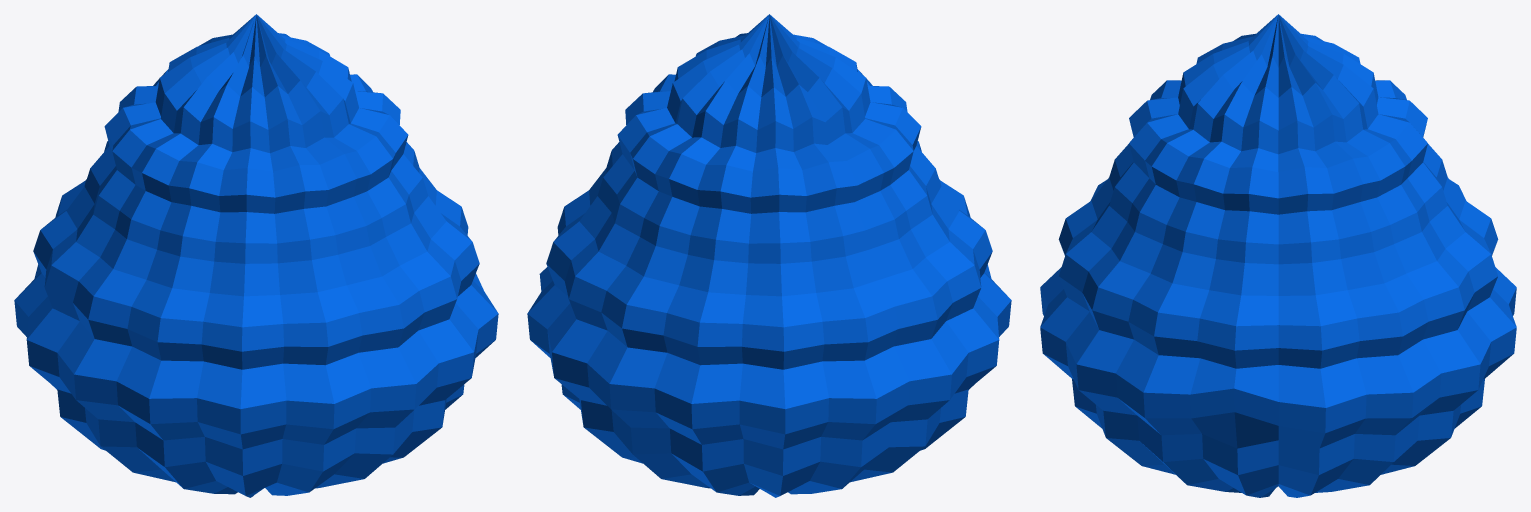
Rendered from egg 1.fbx.
3 views of the same model, side by side, from view 1: azimuth 30°, elevation 25°; view 2: azimuth 150°, elevation 25°; view 3: azimuth 270°, elevation 25° (orthographic).
Visible parts, largest first — view 1: egg; view 2: egg; view 3: egg.
Part boxes in pixels (box(x1,y1,x2,y2)): egg: box(14, 14, 498, 497); egg: box(527, 14, 1011, 497); egg: box(1040, 14, 1516, 497).
Size of the model in its own units: 158 by 170 by 158.
